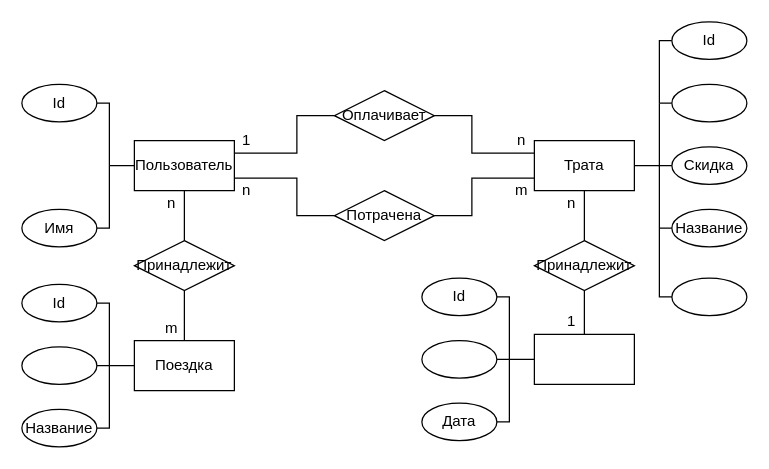
Some shapes in this 769 by 469 pixel diagram are drawn without their labels. Each missing label, with the centre of its shape:
"Ссылка" belongs at [459,358].
"Статус" belongs at [59,365].
"Тип" belongs at [709,296].
"Ценность" belongs at [709,102].
"Чек" belongs at [583,358].
